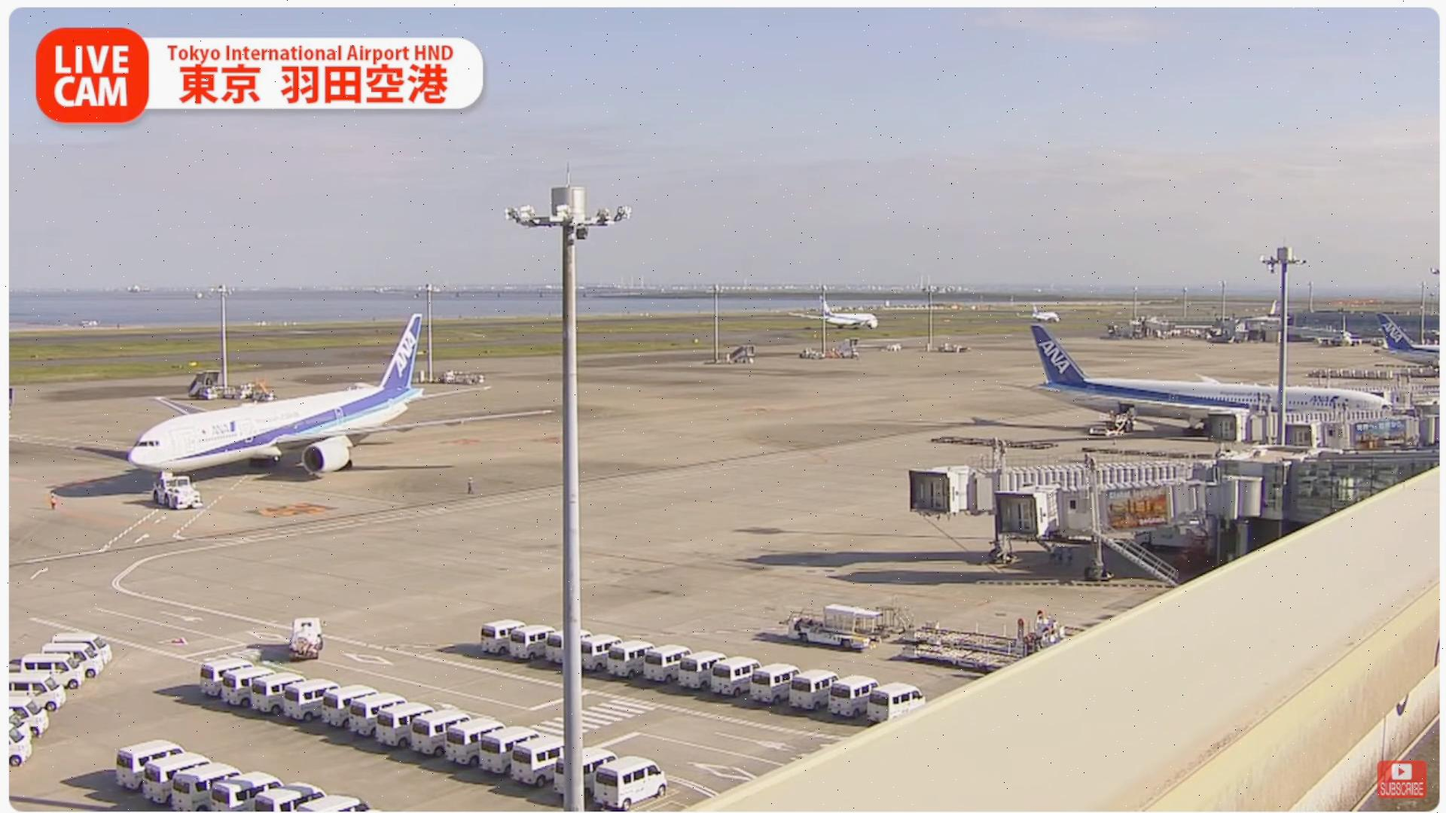APS: (136, 477, 205, 506)
Aerobridge: (885, 461, 1213, 512), (956, 480, 1243, 535)
Airplane: (128, 314, 564, 474)
JCPL: (917, 616, 1080, 655), (886, 635, 1040, 670)
Skyloader: (773, 607, 898, 644)
Window: (1270, 448, 1442, 536)
